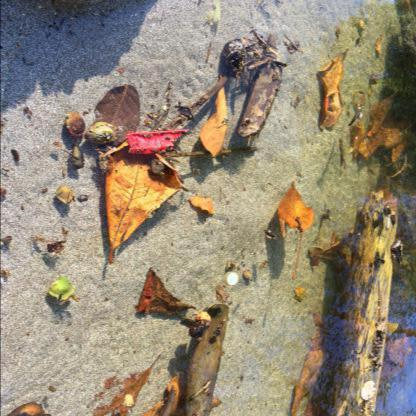Bottle: (224, 271, 239, 285)
Other plastic: (127, 129, 189, 153)
